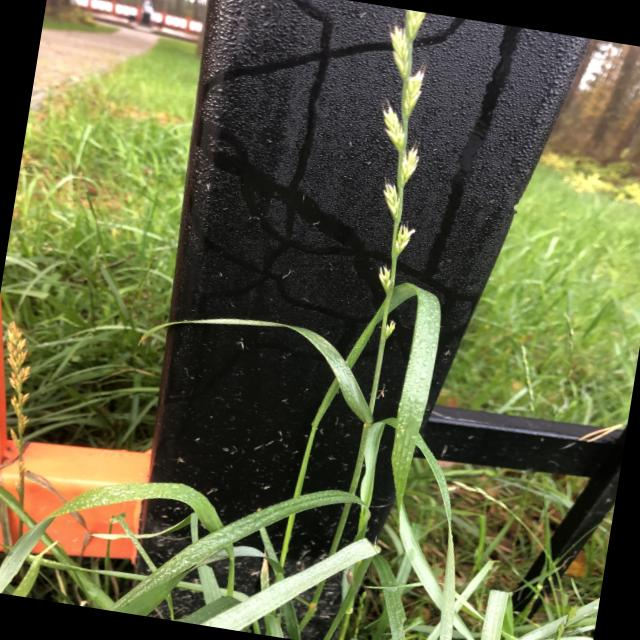Lolium: (0, 0, 640, 640), (288, 8, 481, 640)
